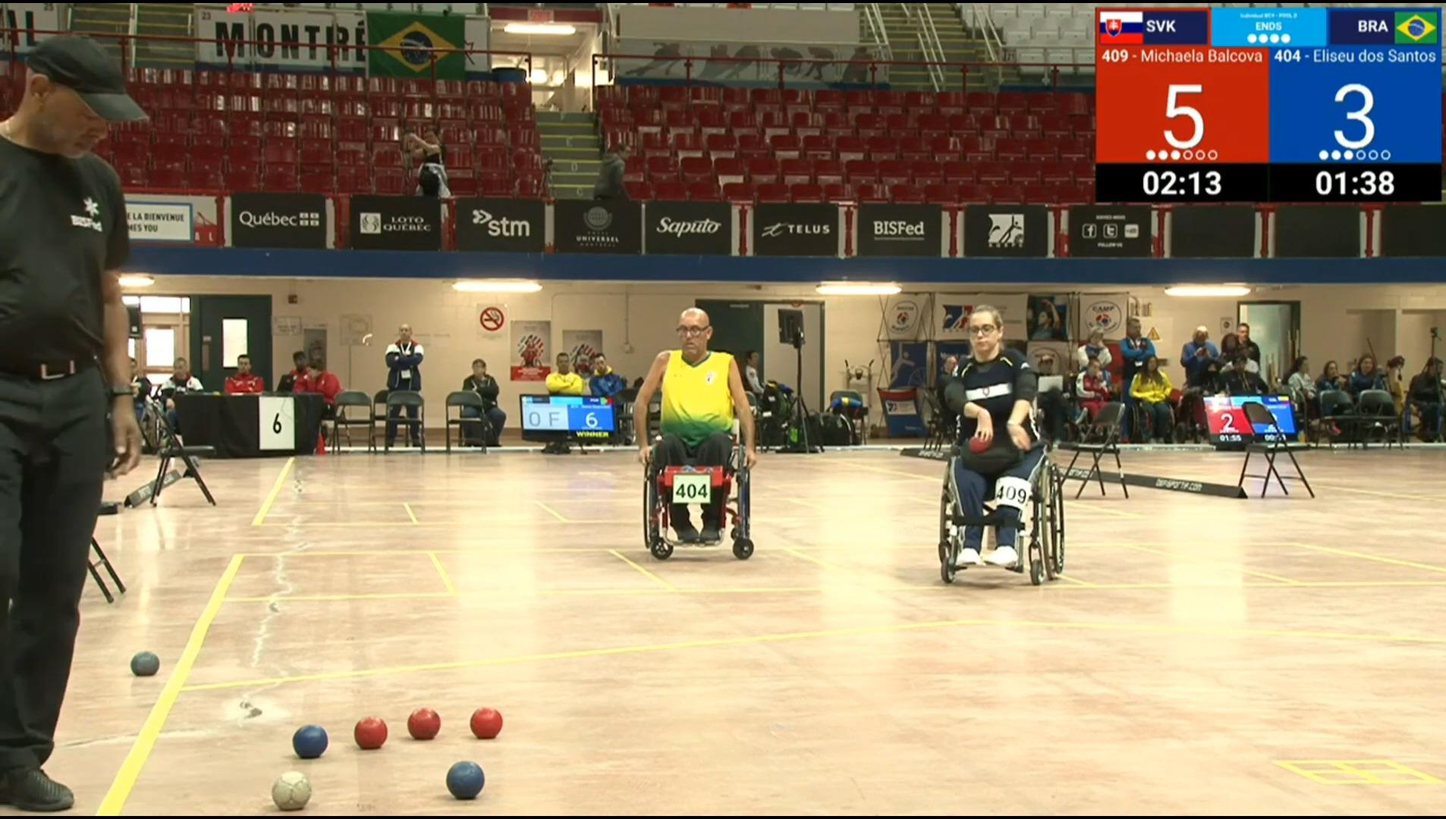blue_ball: (444, 762, 487, 800), (293, 722, 328, 763)
red_ball: (352, 715, 389, 750), (406, 706, 442, 741), (469, 705, 505, 740), (969, 434, 988, 454)
white_ball: (272, 770, 313, 813)
